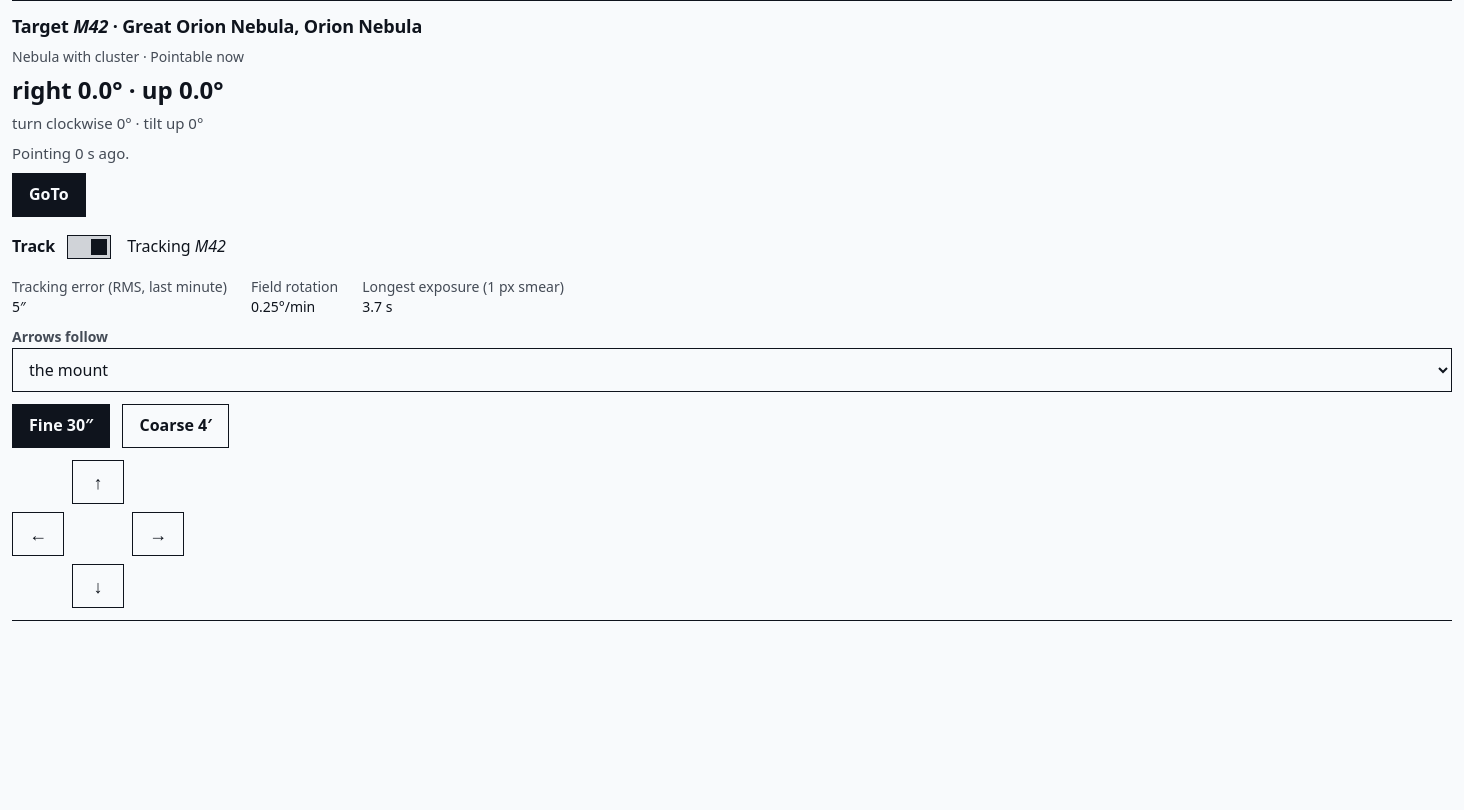
Scenario: the Nudge block in the guidance block › posts the chosen view and step, and reads the status through the move (US5-S1)
Select "the finder camera" in the dropdown labelled "Arrows follow" at (732, 370), box [12,348,1452,392]
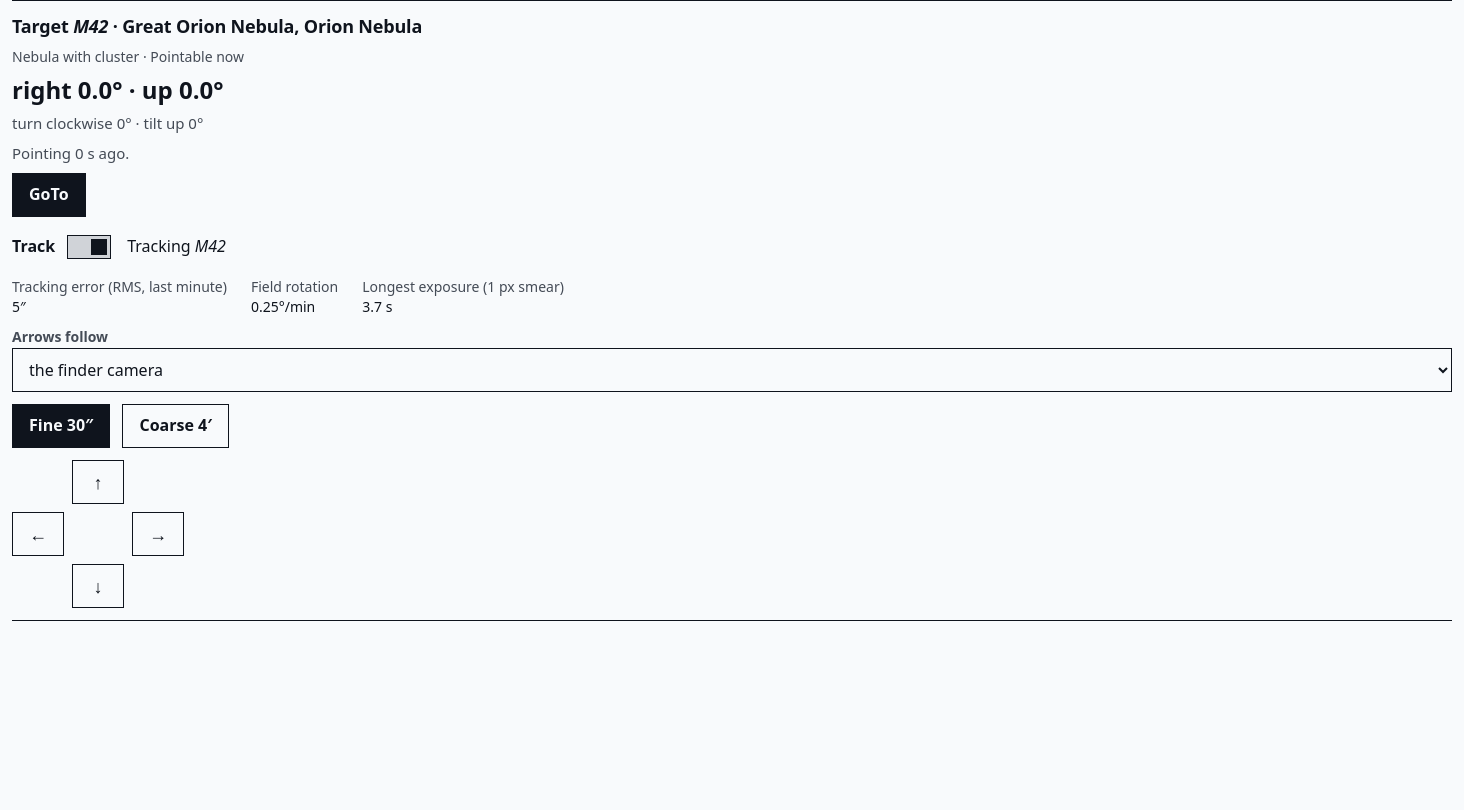
Click the button "Coarse 4′" at (176, 426), box [122,404,229,448]
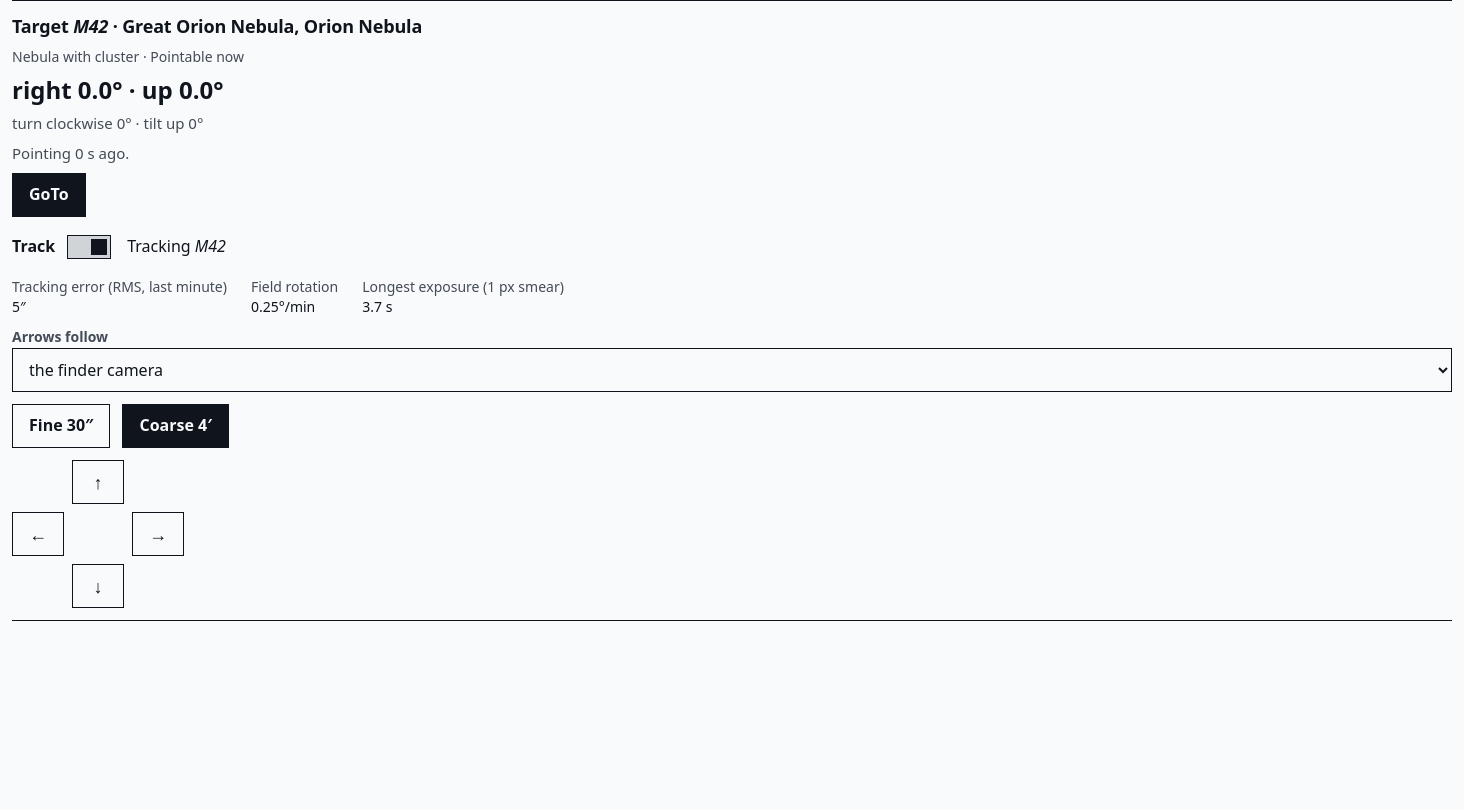
Expected: the button "Coarse 4′" is pressed, [122,404,229,448]
Click the button "→" at (158, 534), box [132,512,184,556]
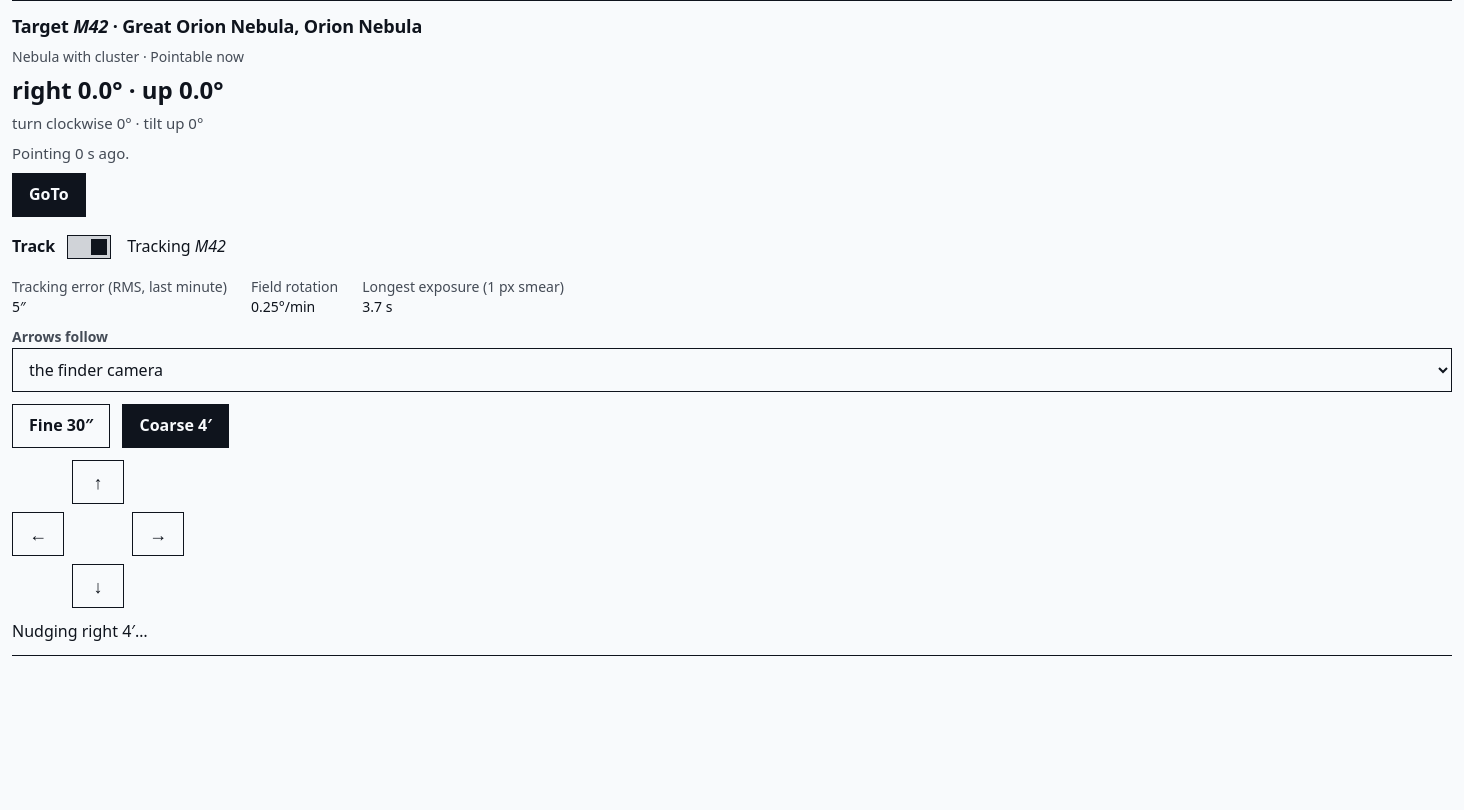
Expected: the message "Nudging right 4′…" is shown, [12,620,148,642]
